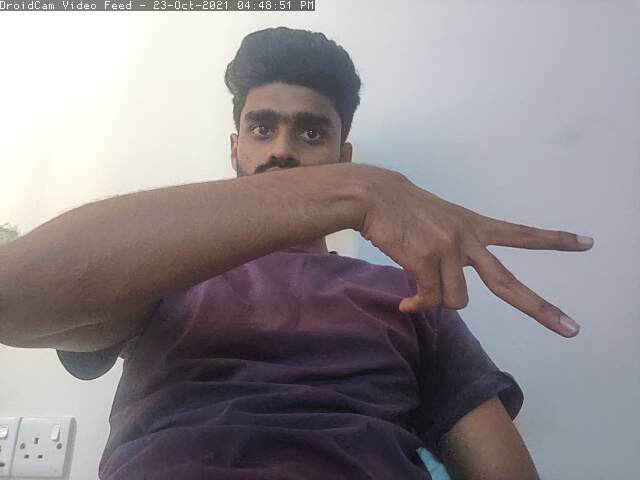Victory: (348, 158, 599, 339)
